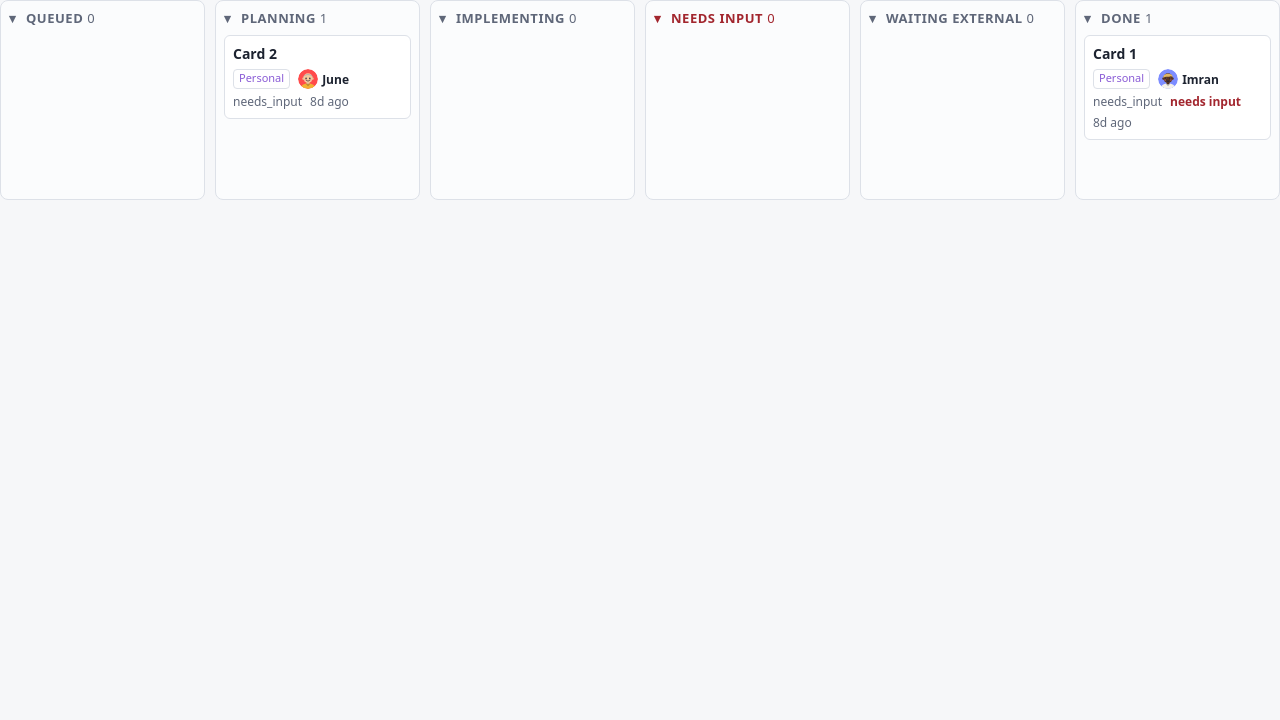
Test case: collapsible columns (UX-9) › FR-5: Expand all appears when a column is collapsed and expands them all
Expected: the button "Expand all" is not shown
Click the button with class "column-toggle" showing "▾ Done 1" at (1118, 18), box [1084,9,1153,27]
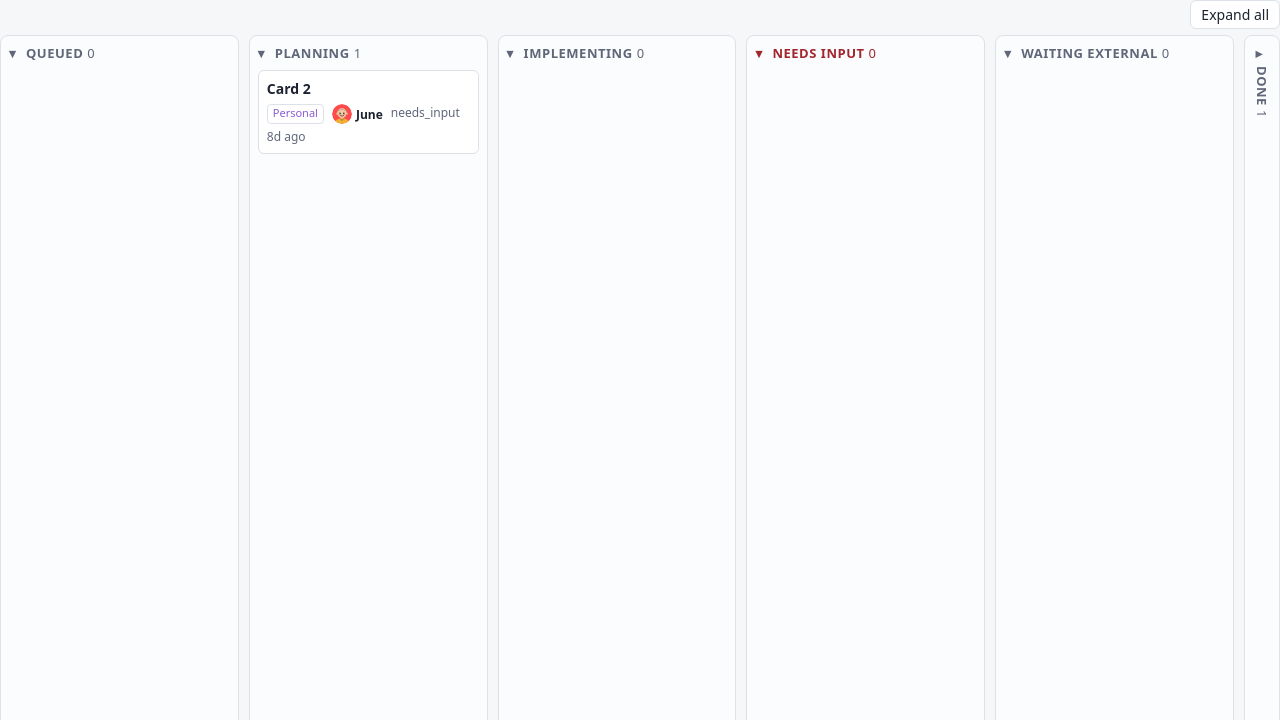
Click the button with class "column-toggle" showing "▾ Planning 1" at (310, 53), box [258,44,362,62]
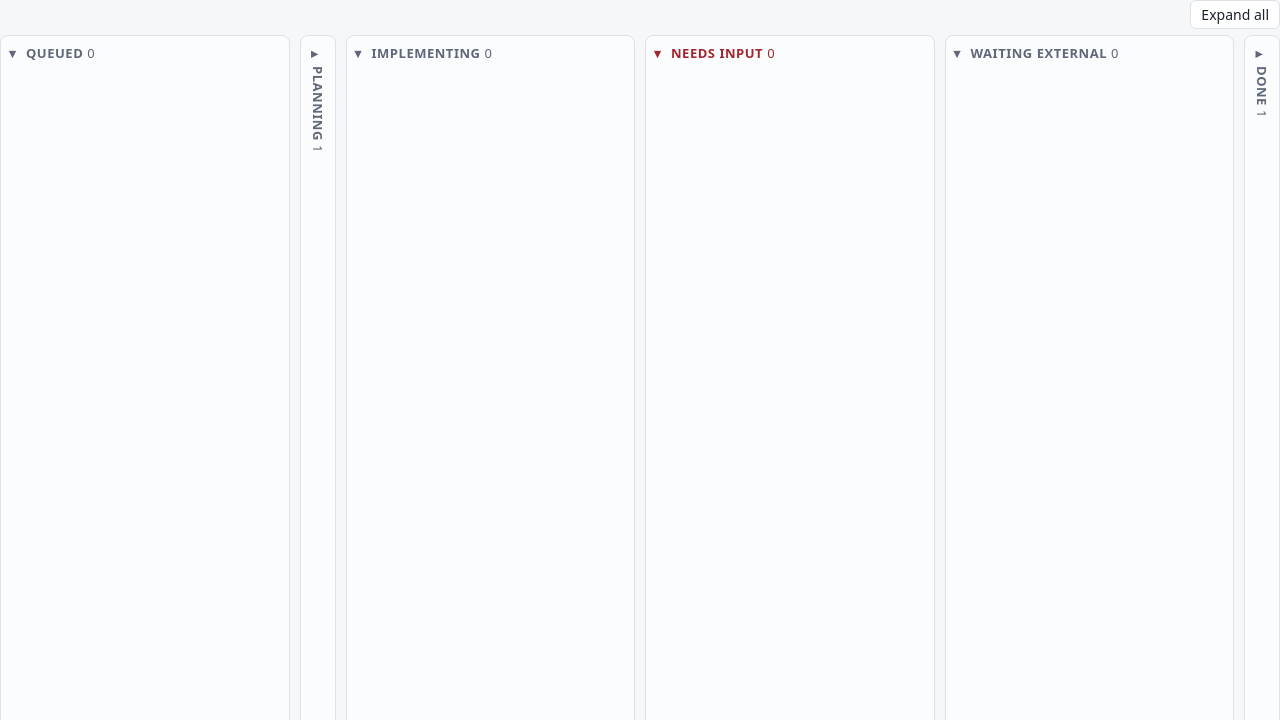
Click the button "Expand all" at (1235, 14), box [1190,0,1279,29]
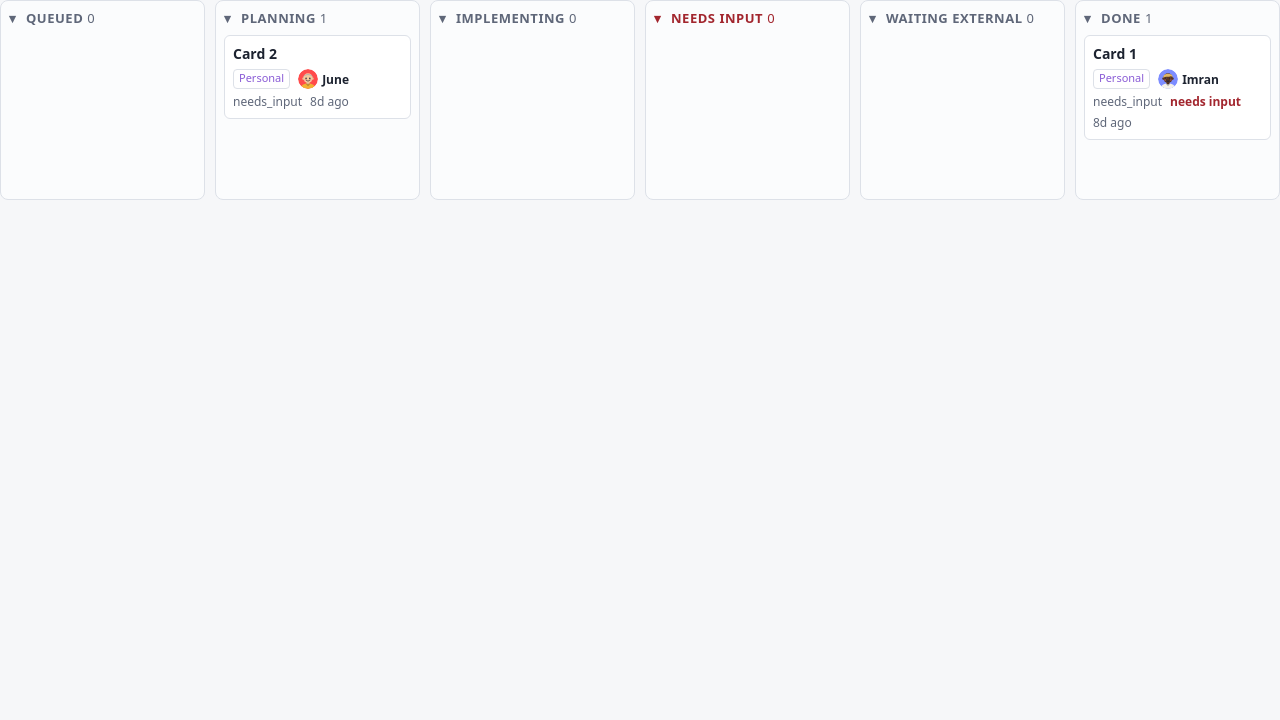
Now the button "Expand all" is gone
